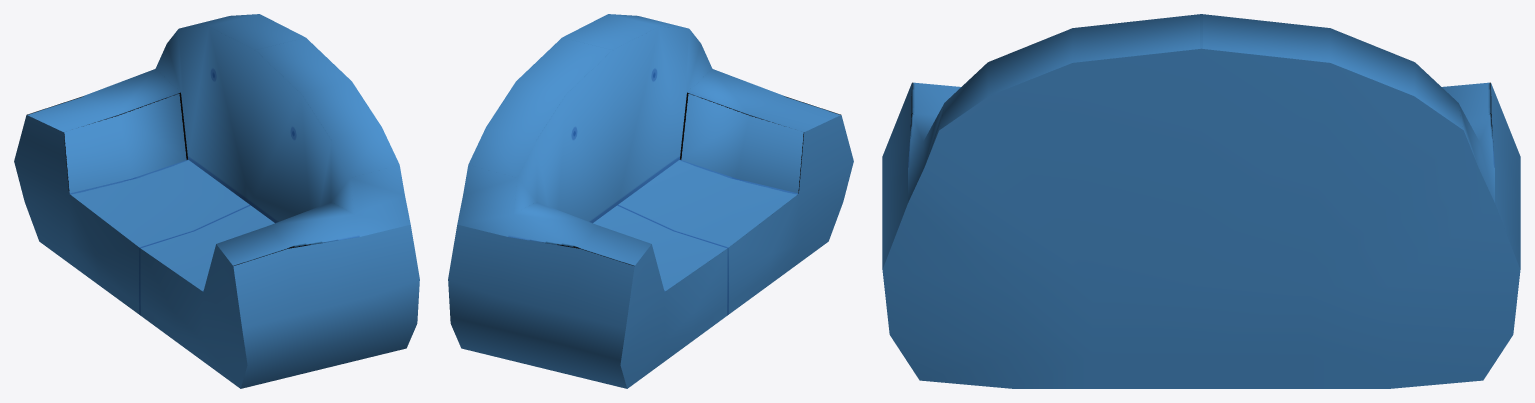
File: ComfyCouch.FBX
3 views of the same model, side by side, from view 1: azimuth 30°, elevation 25°; view 2: azimuth 150°, elevation 25°; view 3: azimuth 270°, elevation 25° (orthographic). The views are drawn at different scales.
Visible parts, largest first — view 1: Box003; view 2: Box003; view 3: Box003.
Boxes of the visible parts, x1,y1,x2,y2 form: Box003: [14, 14, 419, 388]; Box003: [448, 14, 853, 388]; Box003: [882, 14, 1520, 388].
Size of the model in its own units: 126 by 150 by 262.
1 material, 1 textured.
